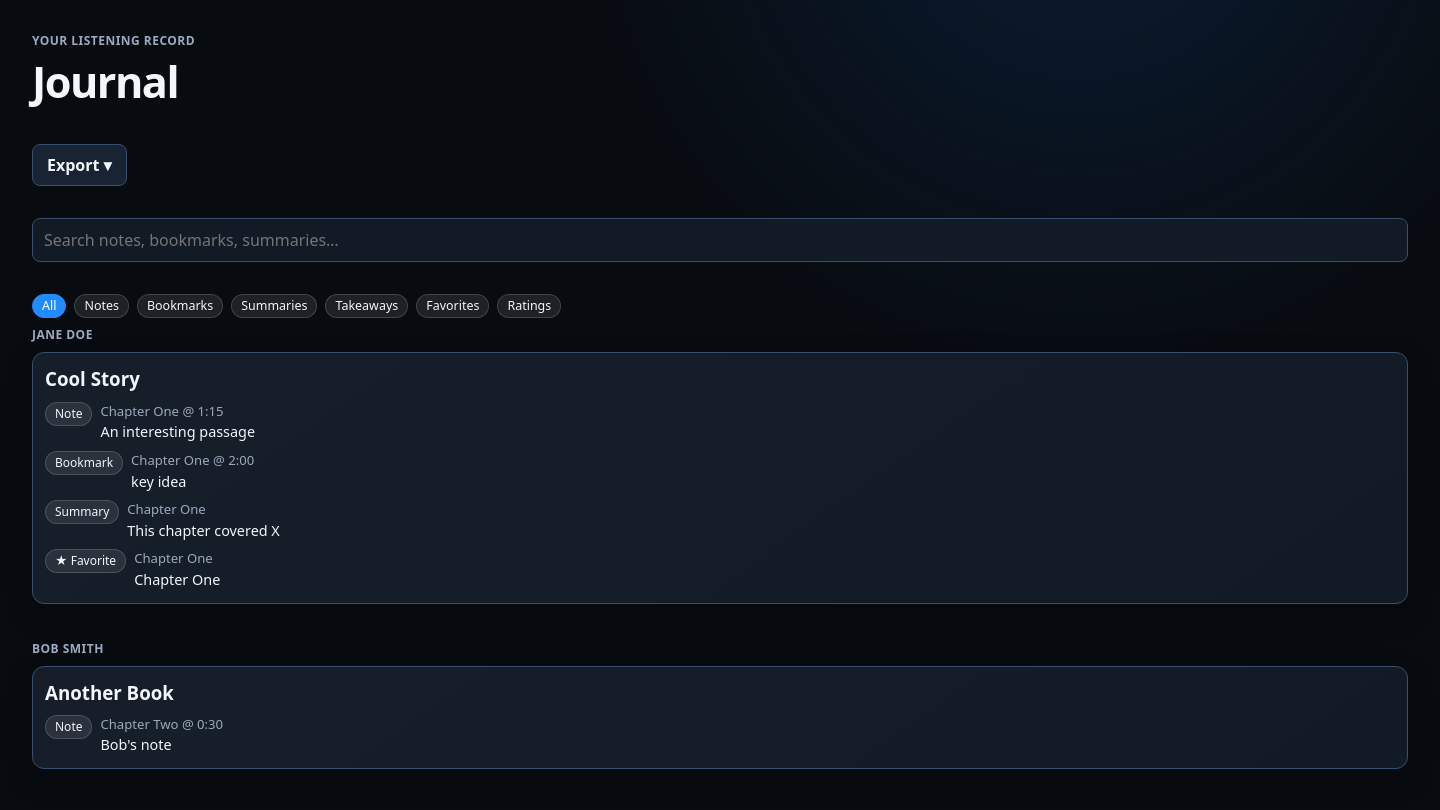
JournalView › kind filter chips narrow the entries
# Click 'Bookmarks' chip
Click the tab "Bookmarks": point(180, 306) [137,294,223,318]
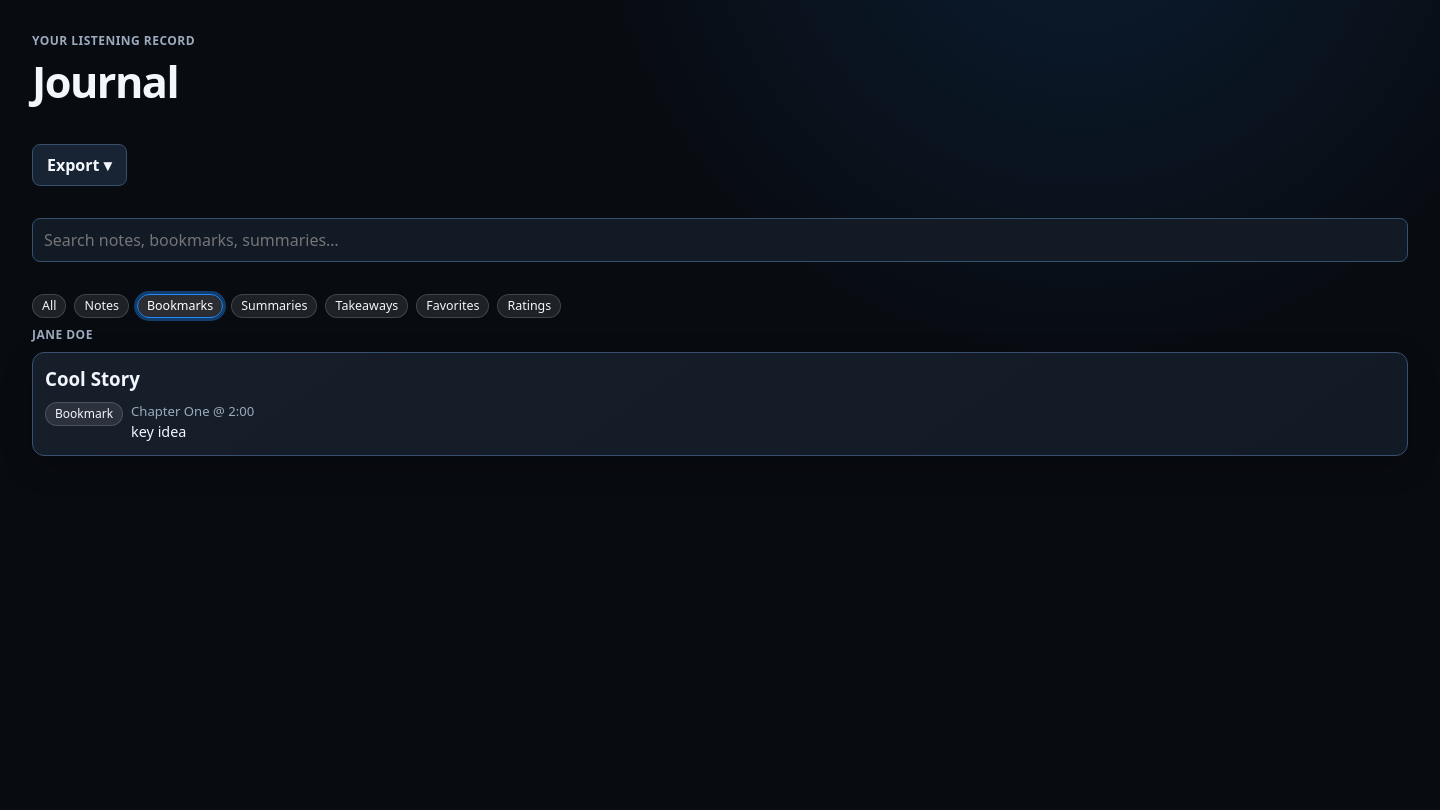
expect the text "key idea" is shown: met, box [131,422,186,441]
expect the text "An interesting passage" is gone: met
expect the text "Bob's note" is gone: met
